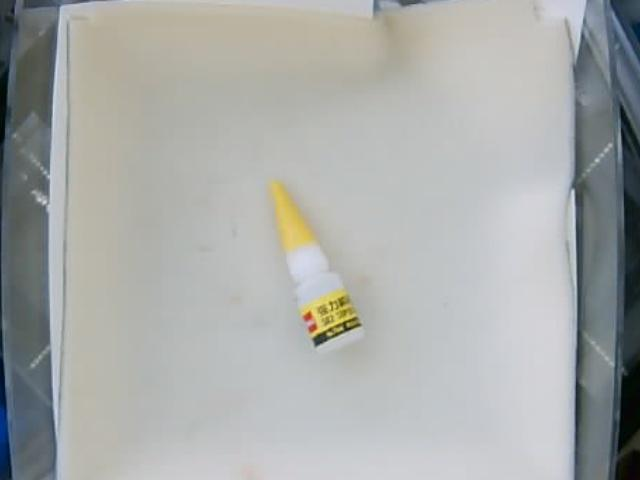Bottle: (265, 178, 367, 356)
